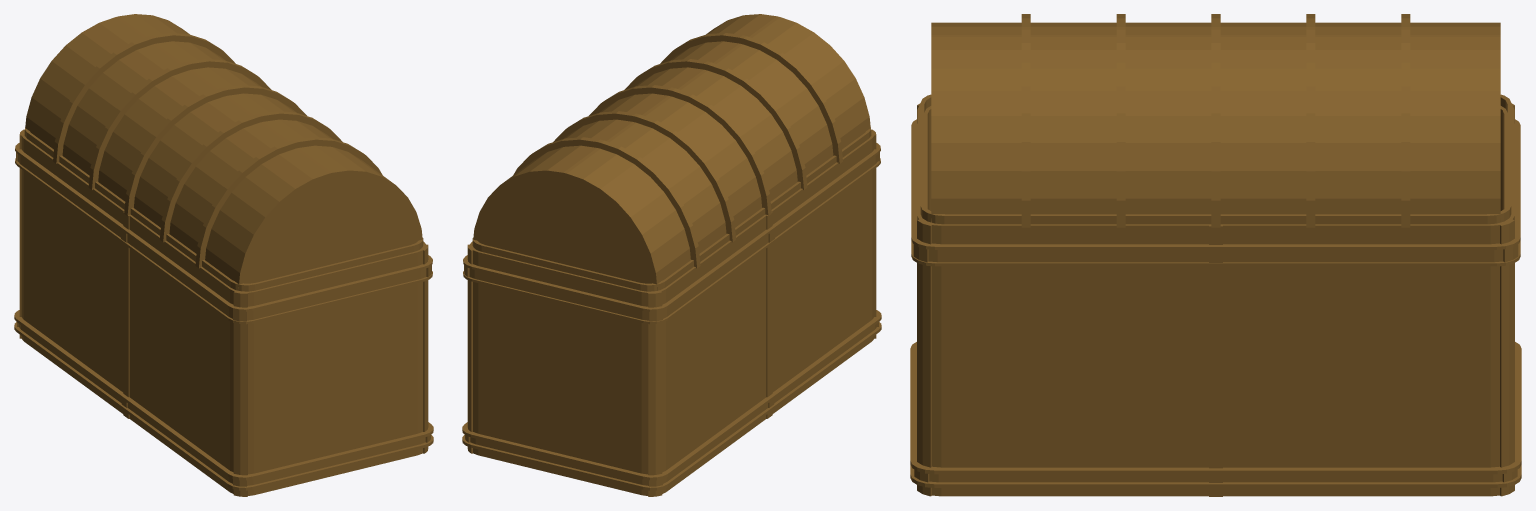
File: treasure 3d close.fbx
3 renders of one model, left to right at view 1: azimuth 30°, elevation 25°; view 2: azimuth 150°, elevation 25°; view 3: azimuth 270°, elevation 25°, orthographic. The views are drawn at different scales.
Visible parts, largest first — view 1: Cube, Cylinder; view 2: Cube, Cylinder; view 3: Cube, Cylinder.
Part boxes in pixels (x1=…): Cube: x1=14, y1=127, x2=433, y2=496; Cylinder: x1=25, y1=14, x2=423, y2=290; Cube: x1=462, y1=127, x2=881, y2=496; Cylinder: x1=472, y1=14, x2=870, y2=290; Cube: x1=910, y1=94, x2=1521, y2=496; Cylinder: x1=931, y1=14, x2=1500, y2=227.
Bounding box in the file's own units: 209 × 299 × 409.
